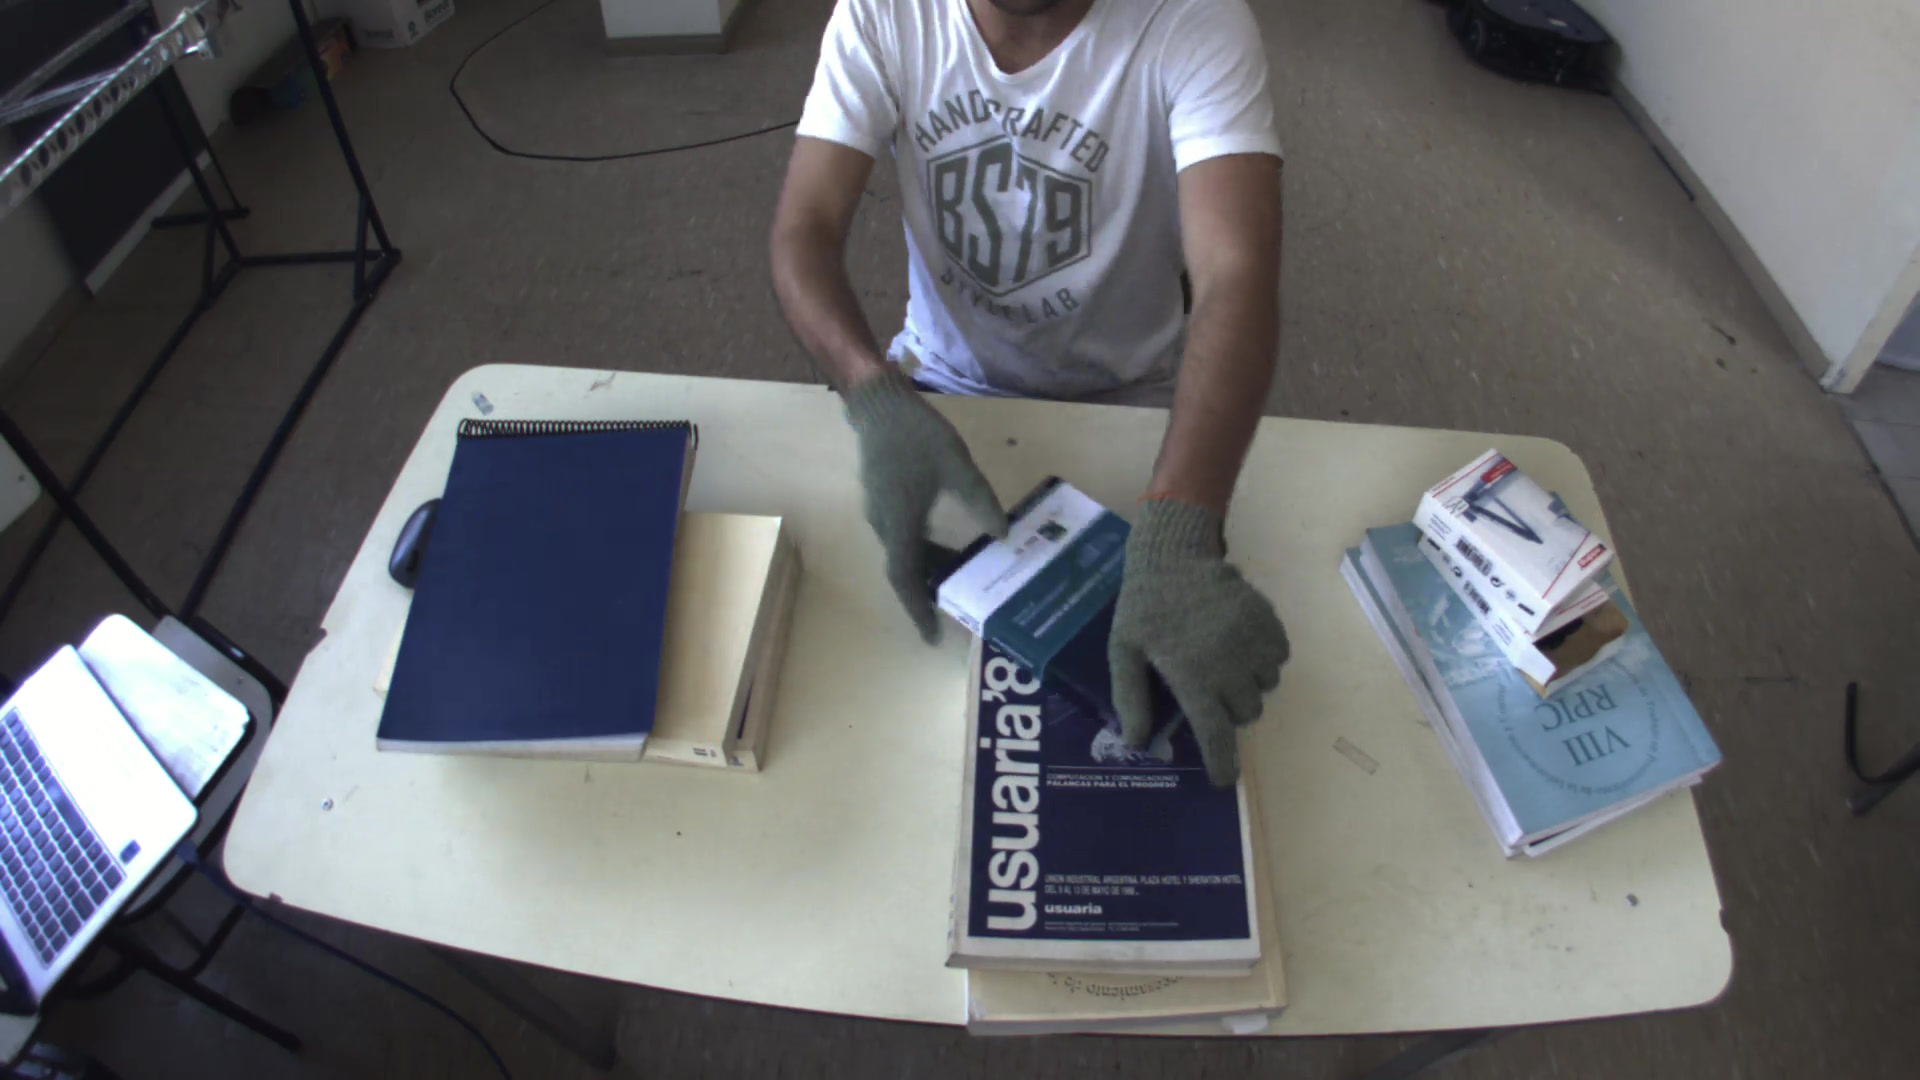hand: (1093, 487, 1305, 785), (832, 361, 1018, 560)
